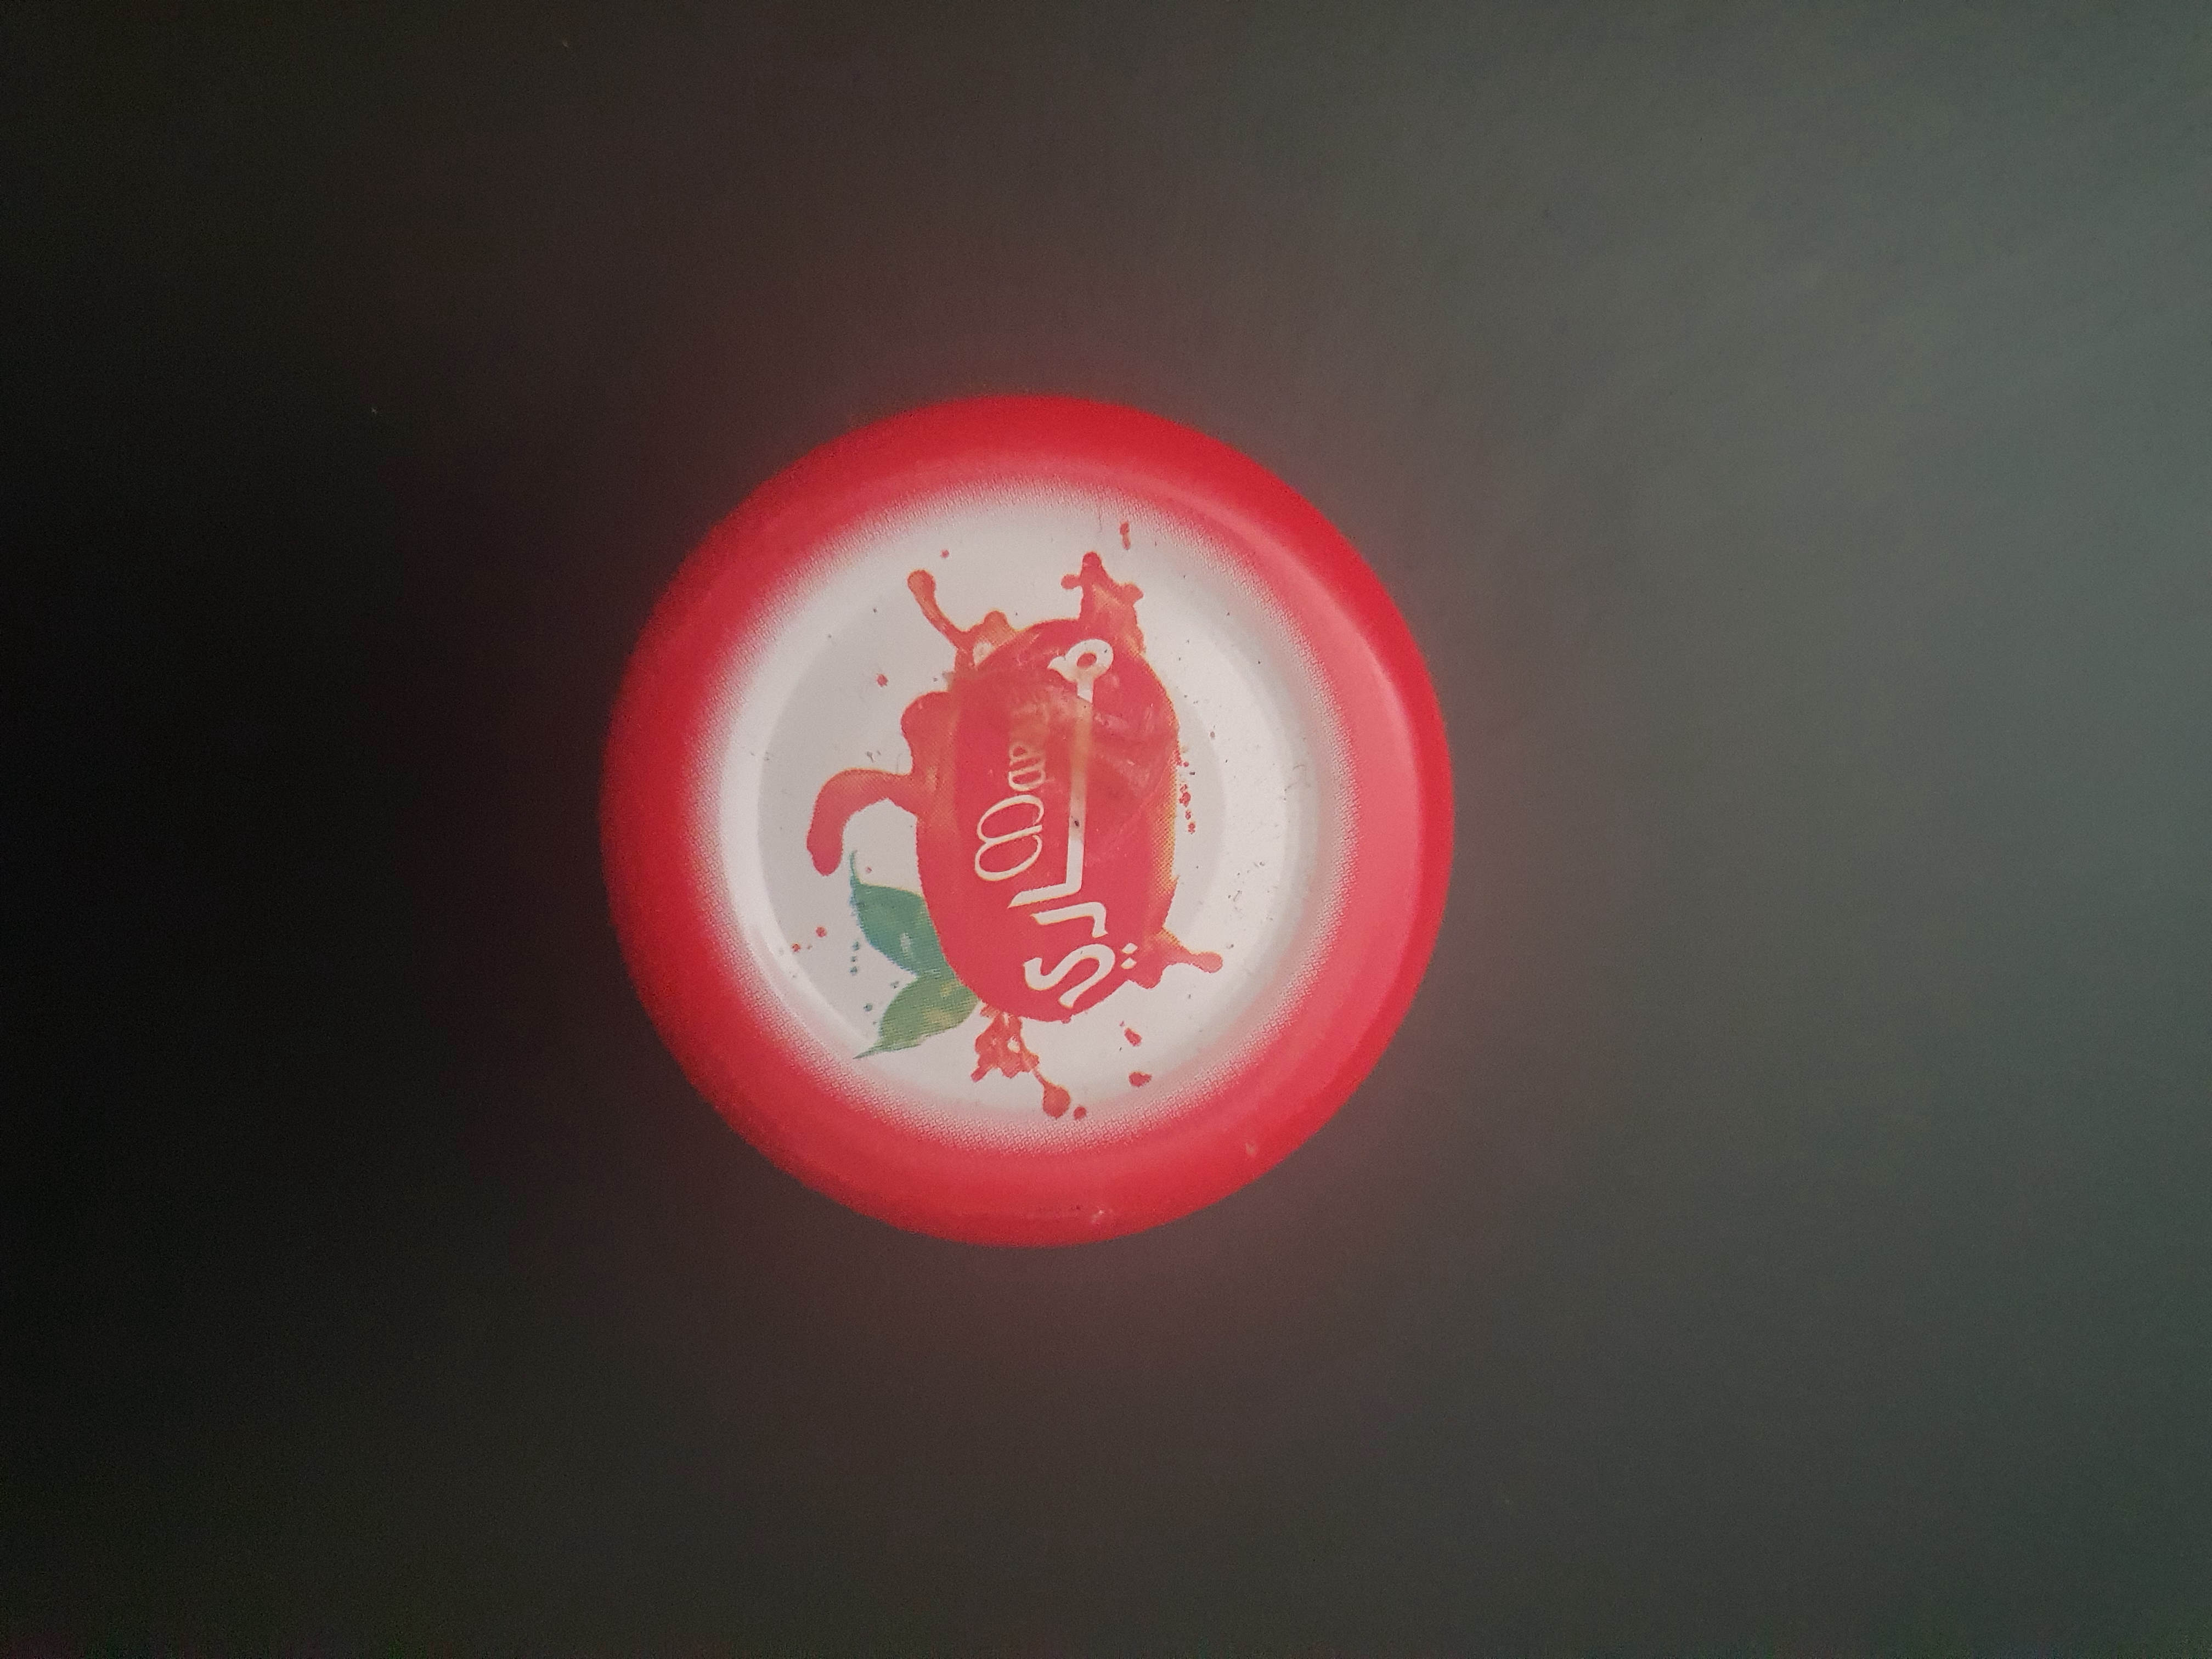metal: (533, 366, 1500, 1283)
